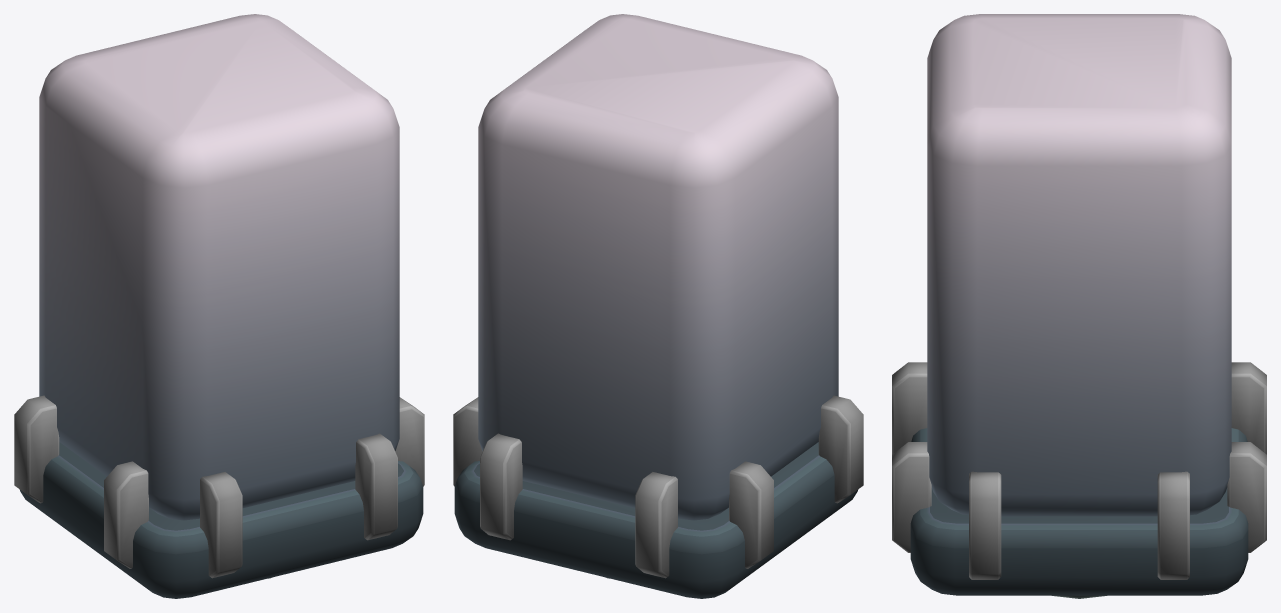
The model's file is sp_food_grower_can_eggplant.fbx.
The picture shows the model from 3 angles, left to right: view 1: azimuth 30°, elevation 25°; view 2: azimuth 150°, elevation 25°; view 3: azimuth 270°, elevation 25°; orthographic projection. The views are drawn at different scales.
Visible parts, largest first — view 1: food_canister_eggplant; view 2: food_canister_eggplant; view 3: food_canister_eggplant.
Boxes of the visible parts, left/top/right/bottom form: food_canister_eggplant: left=14, top=14, right=424, bottom=598; food_canister_eggplant: left=453, top=14, right=863, bottom=598; food_canister_eggplant: left=892, top=14, right=1266, bottom=598.
Size of the model in its own units: 52.23 by 78.42 by 52.23.
